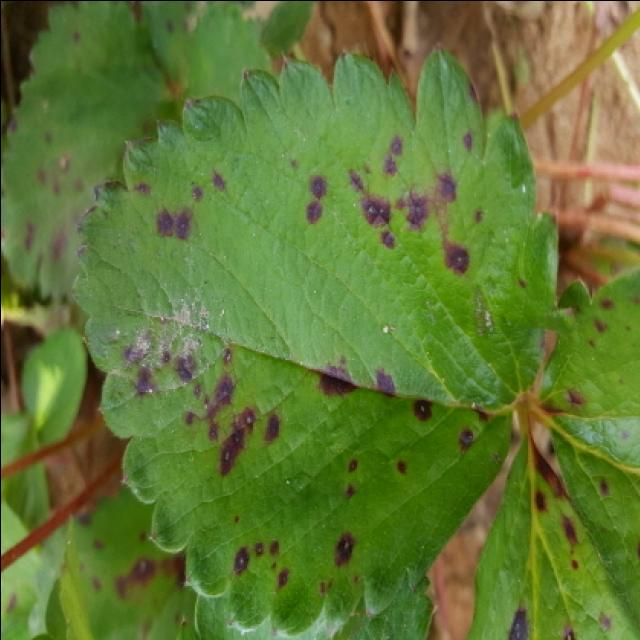Leaf Spot: (67, 42, 570, 640), (2, 2, 179, 297), (536, 270, 640, 640), (466, 419, 640, 640), (57, 485, 195, 640), (144, 2, 271, 107)
